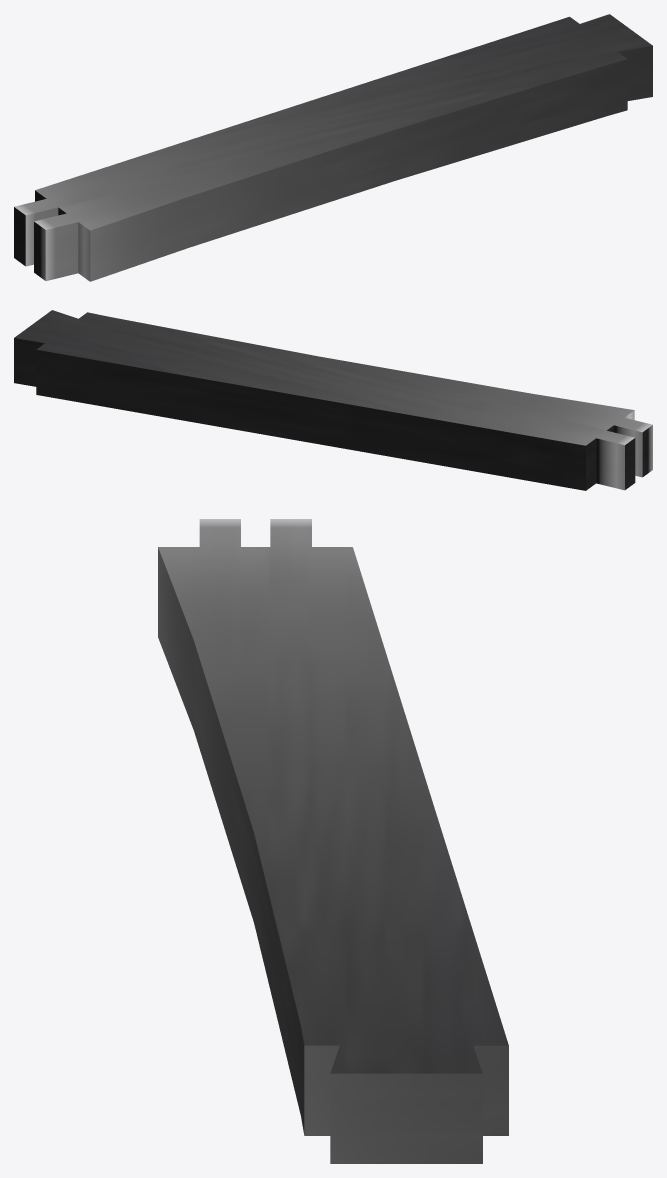
Rendered from original-32.obj.
The picture shows the model from 3 angles, top to bottom: view 1: azimuth 30°, elevation 25°; view 2: azimuth 150°, elevation 25°; view 3: azimuth 270°, elevation 25°; orthographic projection. The views are drawn at different scales.
Parts seen in each view (by area): view 1: Bottom_Outside_Rail1/Bottom_Outside_Rail/mesh74/mesh74-geometry#; view 2: Bottom_Outside_Rail1/Bottom_Outside_Rail/mesh74/mesh74-geometry#; view 3: Bottom_Outside_Rail1/Bottom_Outside_Rail/mesh74/mesh74-geometry#.
Boxes of the visible parts, bbox=[...] form: Bottom_Outside_Rail1/Bottom_Outside_Rail/mesh74/mesh74-geometry#: bbox=[14, 14, 652, 281]; Bottom_Outside_Rail1/Bottom_Outside_Rail/mesh74/mesh74-geometry#: bbox=[14, 310, 652, 490]; Bottom_Outside_Rail1/Bottom_Outside_Rail/mesh74/mesh74-geometry#: bbox=[158, 519, 508, 1163].
Size of the model in its own units: 0.2927 by 0.0222 by 0.0782.
